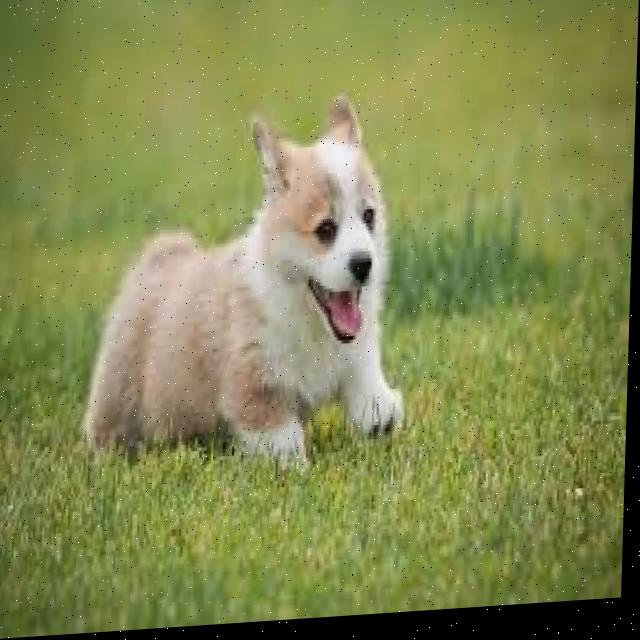CORGI: (80, 100, 439, 502)
